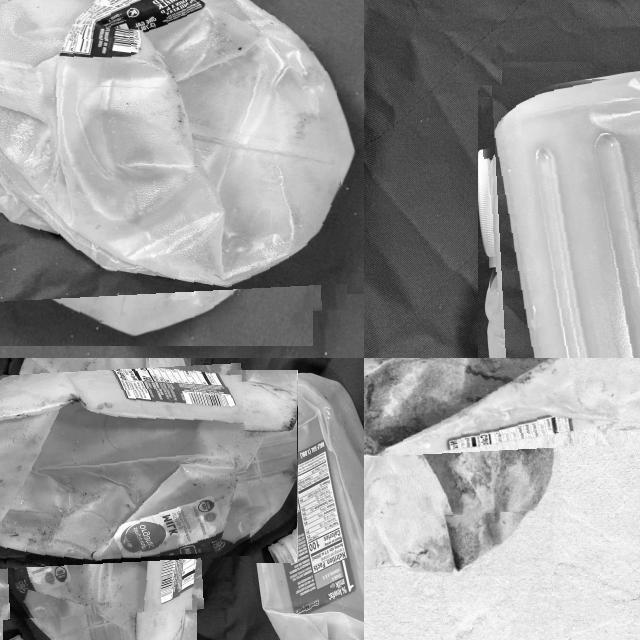milk-jug: (0, 0, 343, 324), (0, 358, 251, 617), (485, 69, 640, 358), (364, 358, 619, 519), (248, 365, 364, 640), (0, 358, 52, 587)
